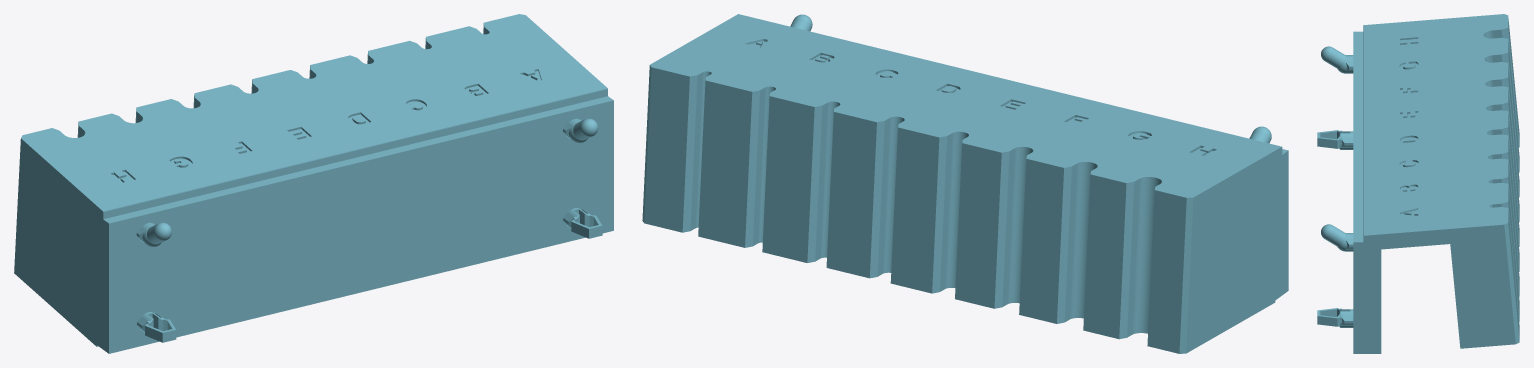
The model's file is part-ms01-a-h__current-mounts-v1__fit-pf02c9-hoop5__installed.glb.
The picture shows the model from 3 angles, left to right: view 1: azimuth 30°, elevation 25°; view 2: azimuth 150°, elevation 25°; view 3: azimuth 270°, elevation 25°; orthographic projection. The views are drawn at different scales.
Visible parts, largest first — view 1: installed.stl; view 2: installed.stl; view 3: installed.stl.
Boxes of the visible parts, x1,y1,x2,y2 form: installed.stl: (14,14,613,353); installed.stl: (642,14,1288,353); installed.stl: (1317,14,1519,353).
Size of the model in its own units: 0.1504 by 0.0437 by 0.0611.
